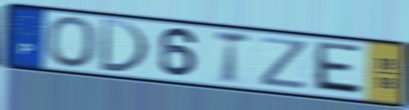6: (157, 27, 200, 79)
D: (96, 17, 151, 75)
E: (310, 39, 365, 99)
O: (45, 15, 99, 70)
T: (212, 29, 254, 86)
Z: (257, 35, 310, 91)
